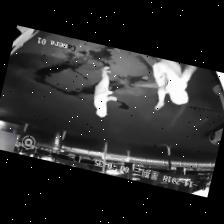person: (152, 58, 195, 109), (93, 65, 116, 116)
